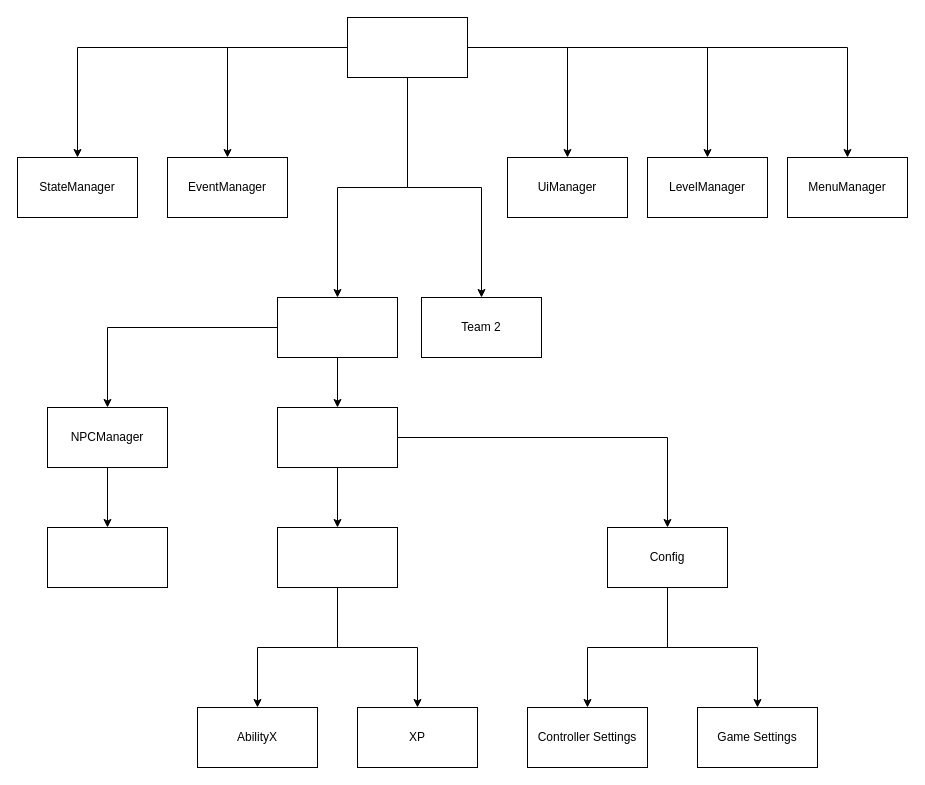
The diagram is 925 pixels wide and 785 high, and some of its shapes have lost their labels. Each missing label, with the centre of its shape:
GameMananger: [407,47]
Hero: [337,557]
Minion X: [107,557]
Player: [337,437]
Team 1: [337,327]
